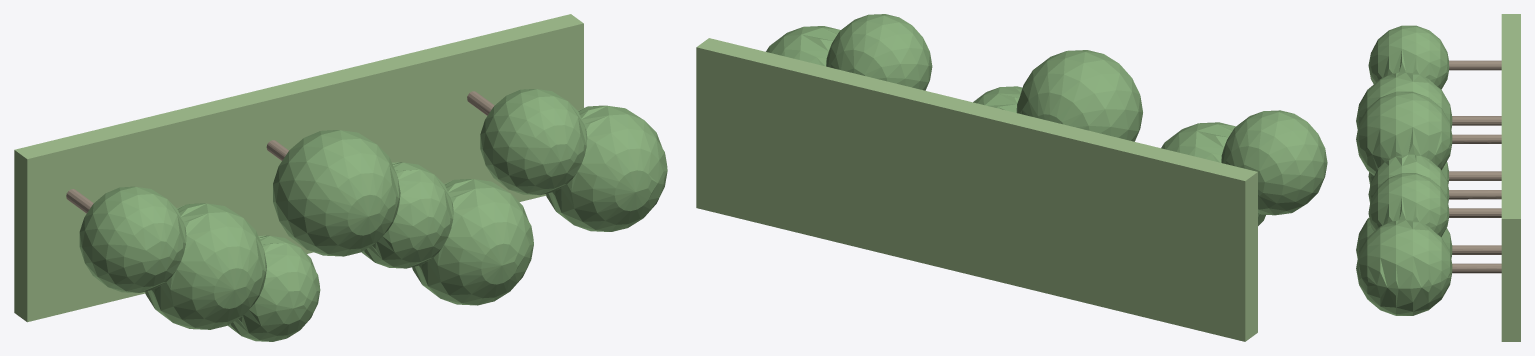
The model's file is r-107-fairmount-park-woods.glb.
3 renders of one model, left to right at view 1: azimuth 30°, elevation 25°; view 2: azimuth 150°, elevation 25°; view 3: azimuth 270°, elevation 25°, orthographic. The views are drawn at different scales.
Visible parts, largest first — view 1: foliage, slope, trunks; view 2: slope, foliage; view 3: foliage, slope, trunks.
Boxes of the visible parts, left/top/right/bottom form: foliage: left=79, top=89, right=667, bottom=341; slope: left=14, top=14, right=583, bottom=322; trunks: left=66, top=91, right=494, bottom=213; slope: left=696, top=38, right=1257, bottom=341; foliage: left=766, top=14, right=1327, bottom=225; foliage: left=1356, top=25, right=1452, bottom=315; slope: left=1501, top=14, right=1520, bottom=341; trunks: left=1449, top=60, right=1501, bottom=273.
Size of the model in its own units: 51100 by 16850 by 17001.
